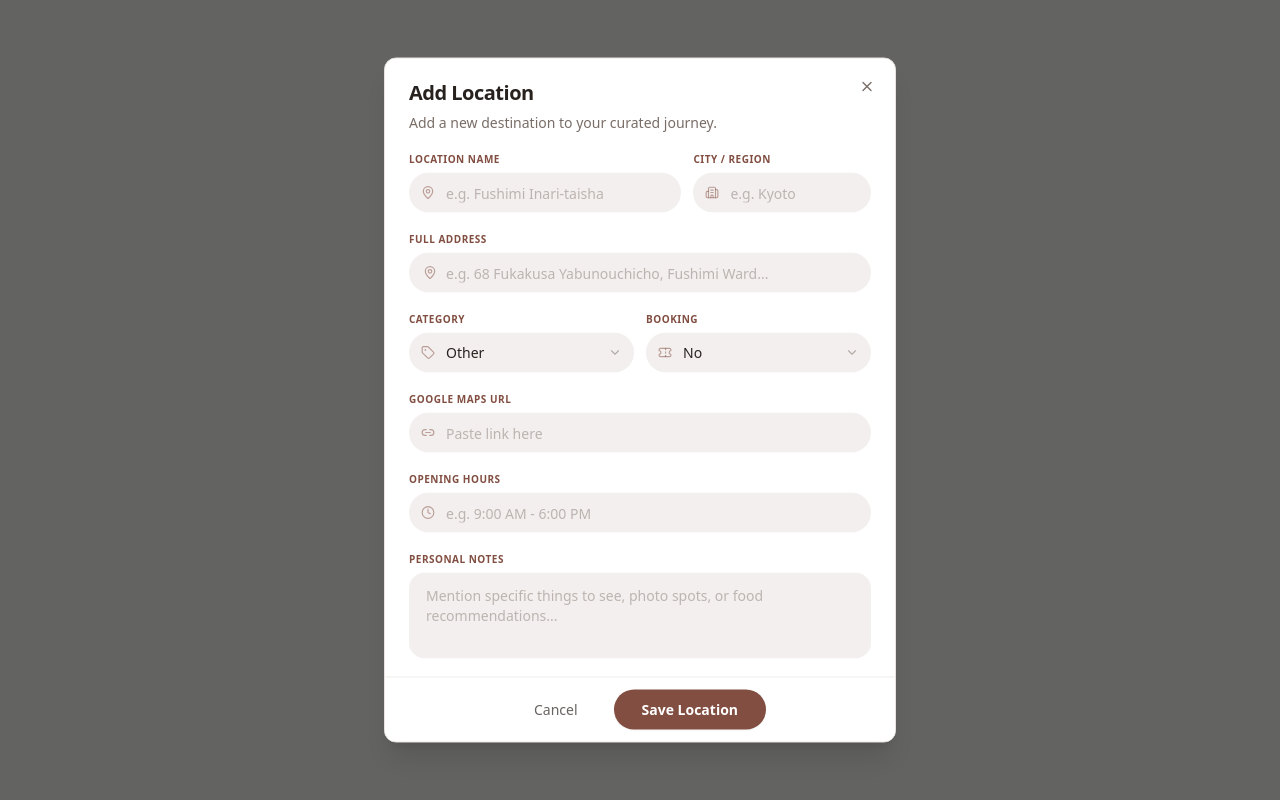
it: AddLocationForm › shows error banner on API failure
This screenshot has width=1280, height=800.
Type "Place" into the field labelled "Location name".
click(545, 192); type("Place")  # box left=409, top=172, right=681, bottom=212
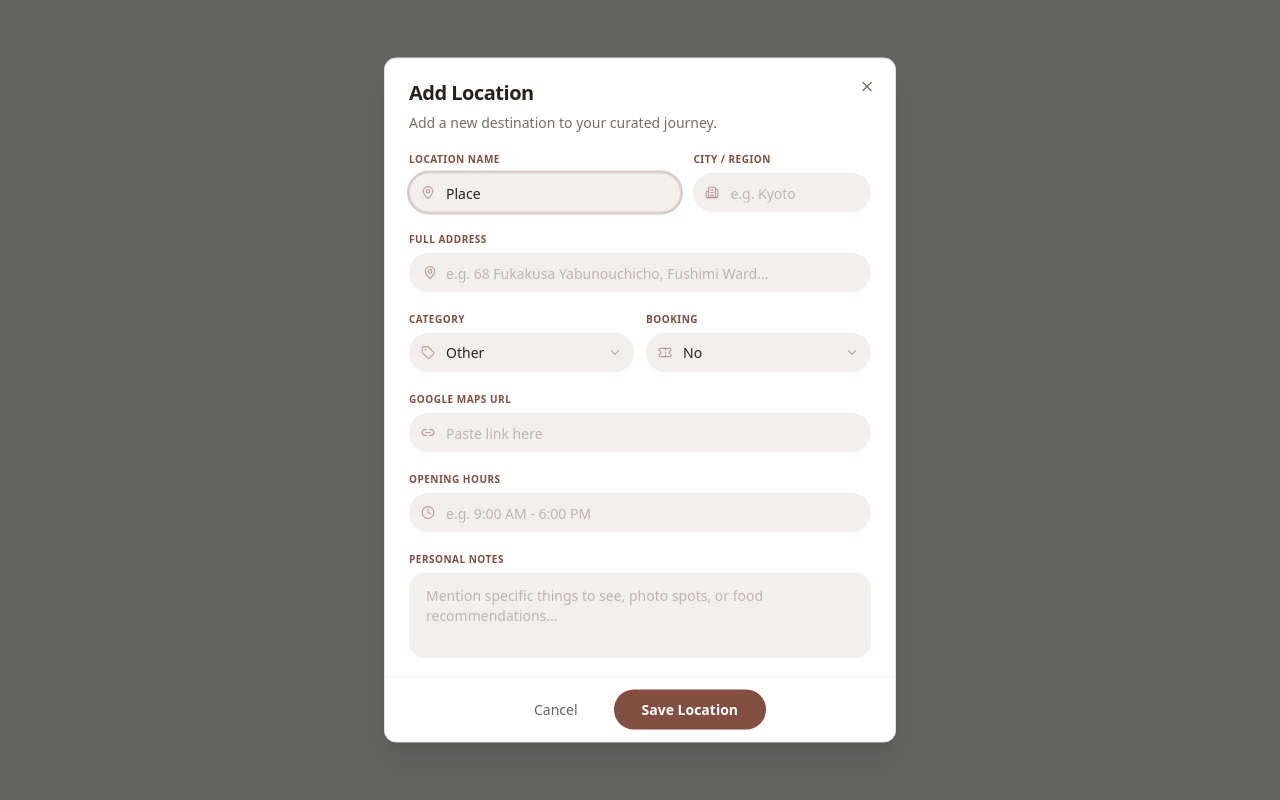
Click the button "Save Location".
click(690, 710)  # box left=614, top=690, right=766, bottom=730
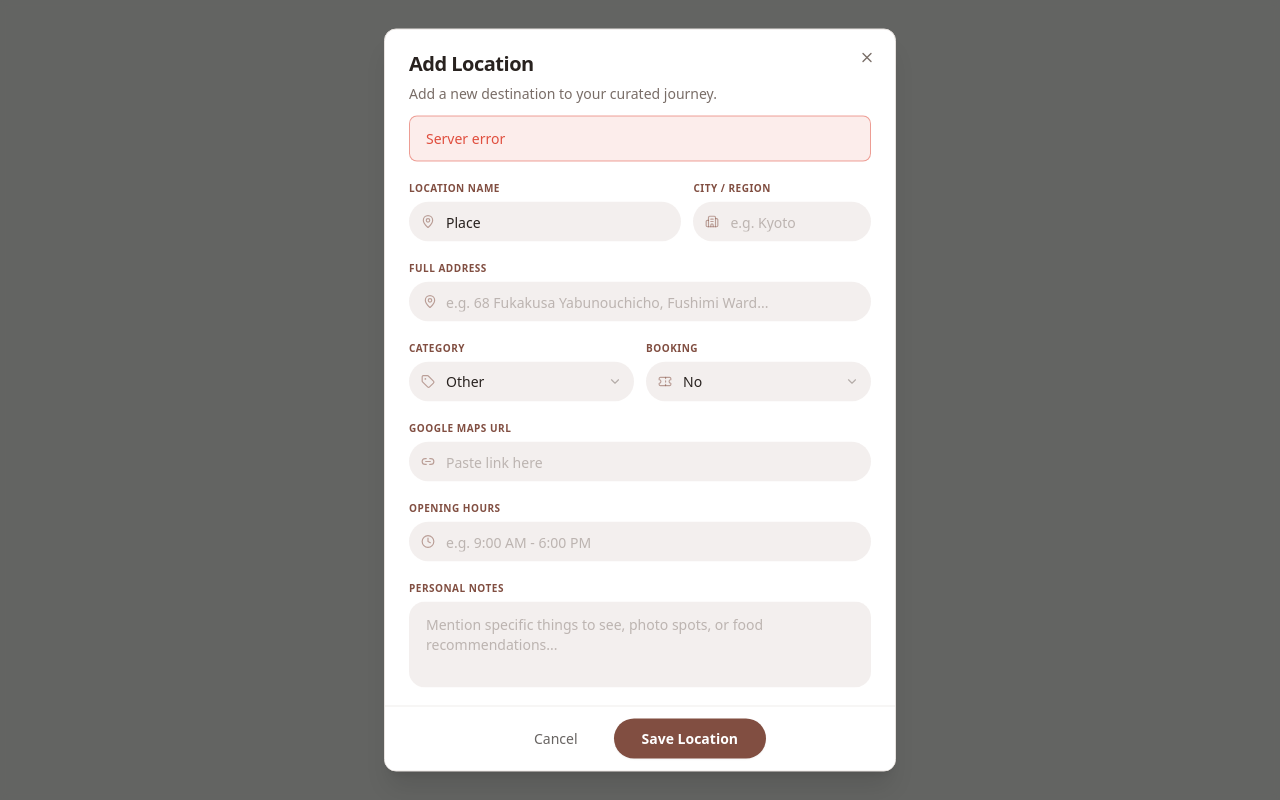
Now the text "Server error" is shown, box left=426, top=128, right=505, bottom=148
